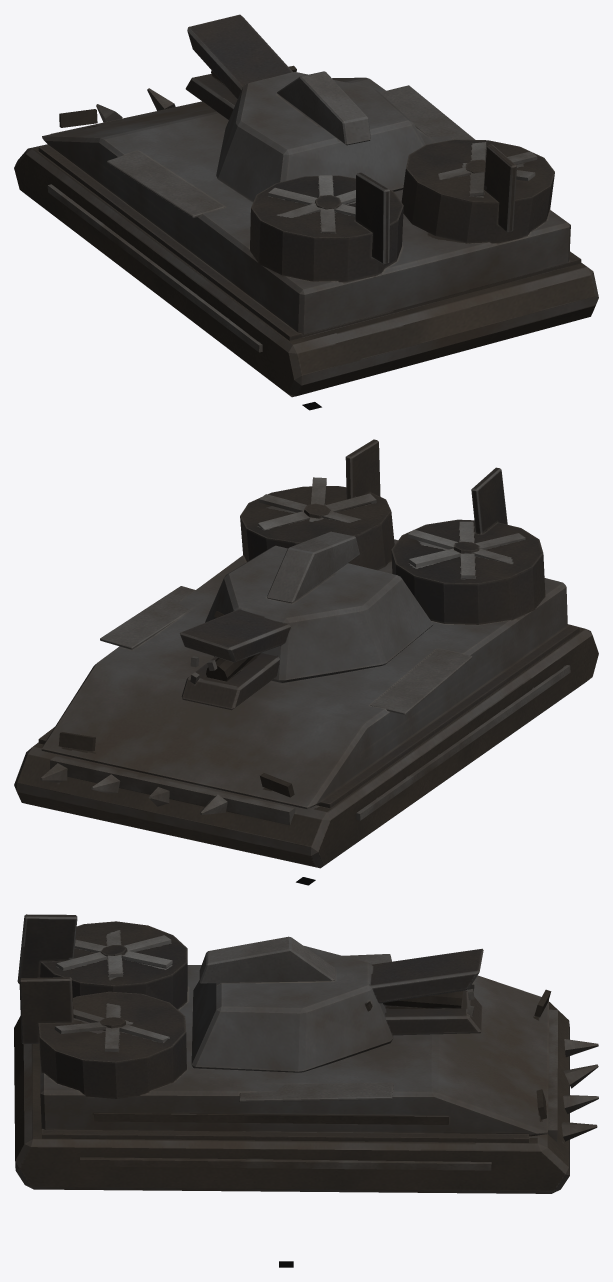
The model's file is chs_snapjaw_wreck.fbx.
3 views of the same model, one above another, from view 1: azimuth 30°, elevation 25°; view 2: azimuth 150°, elevation 25°; view 3: azimuth 270°, elevation 25° (orthographic). The views are drawn at different scales.
Visible parts, largest first — view 1: base_bar, turret_bar, barrel_bar, fan1_bar, fan2_bar; view 2: base_bar, turret_bar, barrel_bar, fan1_bar, fan2_bar; view 3: base_bar, turret_bar, barrel_bar, fan1_bar, fan2_bar.
Boxes of the visible parts, x1=… form: base_bar: x1=14, y1=65, x2=598, y2=397; turret_bar: x1=216, y1=71, x2=425, y2=202; barrel_bar: x1=185, y1=14, x2=292, y2=119; fan1_bar: x1=268, y1=175, x2=355, y2=233; fan2_bar: x1=442, y1=142, x2=537, y2=196; base_bar: x1=14, y1=439, x2=598, y2=868; turret_bar: x1=205, y1=531, x2=433, y2=682; barrel_bar: x1=180, y1=609, x2=290, y2=710; fan1_bar: x1=407, y1=521, x2=525, y2=578; fan2_bar: x1=258, y1=477, x2=376, y2=530; base_bar: x1=14, y1=914, x2=598, y2=1193; turret_bar: x1=191, y1=936, x2=393, y2=1072; barrel_bar: x1=370, y1=948, x2=483, y2=1035; fan1_bar: x1=56, y1=932, x2=172, y2=977; fan2_bar: x1=54, y1=1005, x2=169, y2=1051.
Bounding box in the file's own units: 479 × 481 × 788.
Materials: 2 (2 with a texture image).
